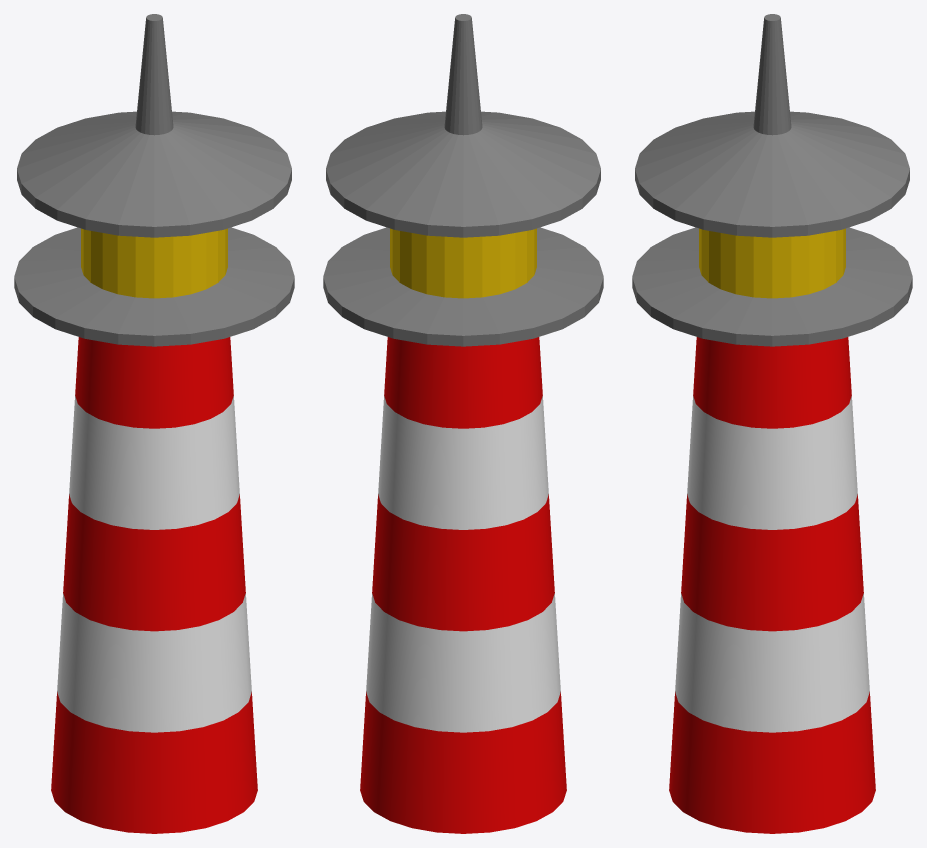
Rendered from light_tow.fbx.
The picture shows the model from 3 angles, left to right: view 1: azimuth 30°, elevation 25°; view 2: azimuth 150°, elevation 25°; view 3: azimuth 270°, elevation 25°; orthographic projection.
Visible parts, largest first — view 1: Cone001; view 2: Cone001; view 3: Cone001.
Boxes of the visible parts, x1,y1,x2,y2 form: Cone001: (14,14,294,833); Cone001: (323,14,603,833); Cone001: (632,14,912,833).
Size of the model in its own units: 102 by 311 by 102.
